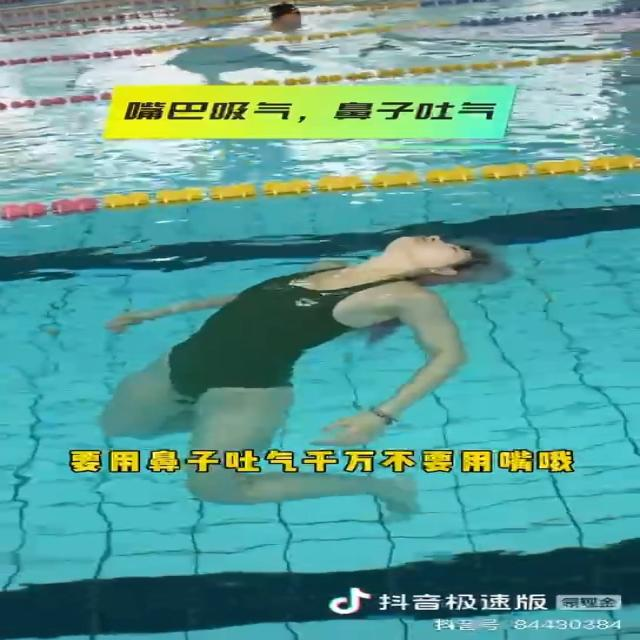Drowning: (91, 230, 514, 517)
